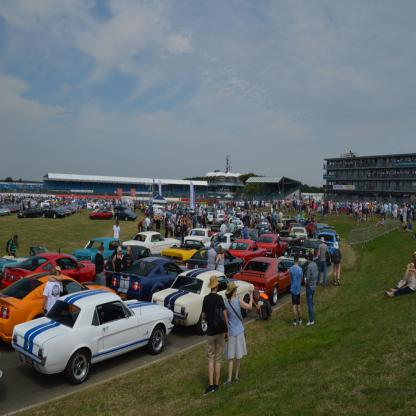Car: (20, 184, 342, 392), (0, 267, 116, 343), (151, 269, 254, 332), (104, 254, 187, 300), (2, 252, 99, 288), (230, 256, 294, 304), (183, 244, 244, 273), (278, 245, 322, 285), (77, 235, 131, 267), (118, 231, 180, 257), (223, 237, 260, 272), (178, 225, 218, 251), (315, 228, 342, 266), (255, 230, 281, 253), (89, 203, 113, 220), (290, 226, 308, 244), (115, 207, 137, 221), (41, 204, 63, 216), (278, 228, 293, 245)
